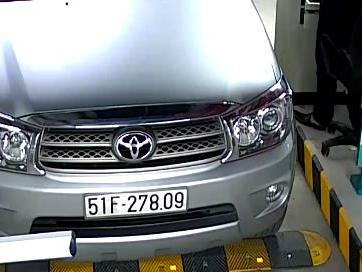number: (83, 186, 186, 219)
